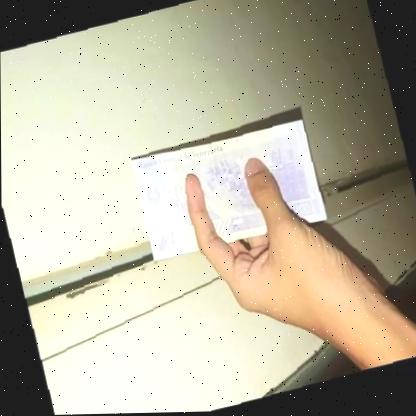vef_back: (128, 118, 327, 263)
